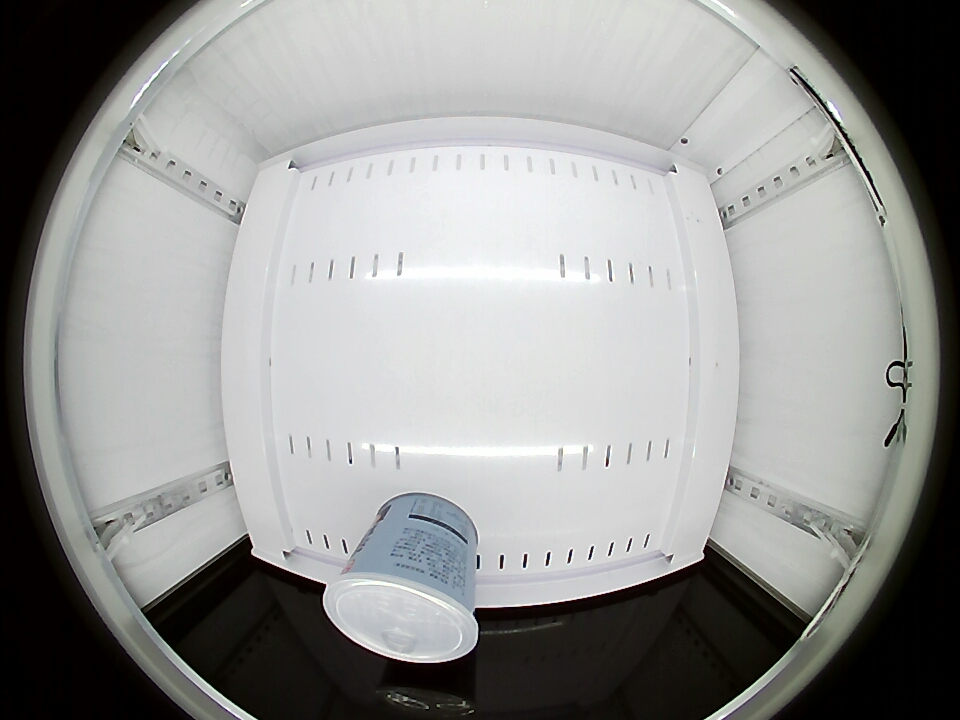haitai: (323, 550, 480, 664)
